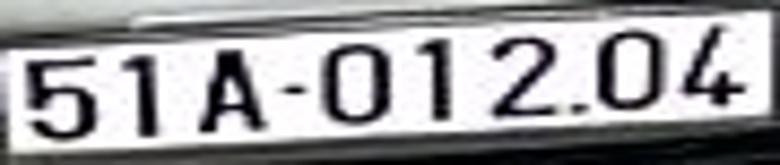-: (276, 82, 307, 97)
.: (572, 103, 590, 116)
0: (318, 42, 394, 126), (596, 34, 662, 112)
1: (415, 36, 454, 125), (120, 53, 158, 139)
2: (488, 35, 558, 119)
4: (678, 27, 742, 110)
5: (24, 58, 97, 142)
A: (197, 50, 264, 132)
